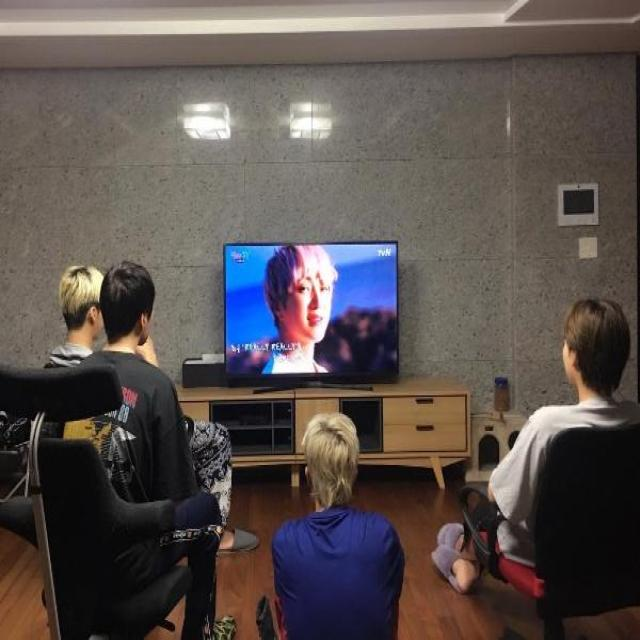tv-person: (215, 209, 640, 640), (37, 206, 390, 640), (98, 210, 413, 640), (214, 227, 412, 636), (96, 222, 414, 400)
